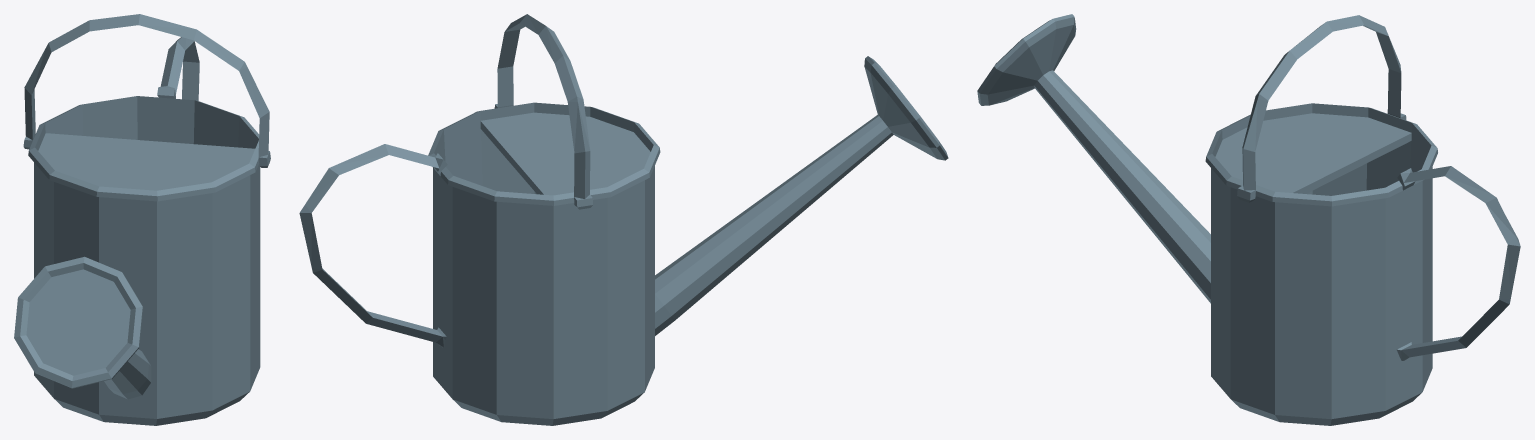
File: water can.glb
The picture shows the model from 3 angles, left to right: view 1: azimuth 30°, elevation 25°; view 2: azimuth 150°, elevation 25°; view 3: azimuth 270°, elevation 25°; orthographic projection. The views are drawn at different scales.
Parts seen in each view (by area): view 1: water can, group1331374005, group2012482809, group221591931, group837911006, group1096370107; view 2: water can, group1331374005, group2012482809, group1096370107, group837911006, group221591931; view 3: water can, group1331374005, group2012482809, group1096370107, group221591931, group837911006.
Boxes of the visible parts, x1,y1,x2,y2 form: water can: (28, 96, 260, 425); group1331374005: (14, 256, 151, 399); group2012482809: (38, 133, 254, 190); group221591931: (138, 14, 270, 167); group837911006: (23, 14, 139, 149); group1096370107: (157, 37, 199, 100); water can: (428, 102, 660, 425); group1331374005: (655, 56, 948, 335); group2012482809: (480, 112, 650, 195); group1096370107: (299, 144, 447, 347); group837911006: (538, 26, 592, 209); group221591931: (494, 14, 545, 108); water can: (1205, 103, 1437, 425); group1331374005: (977, 14, 1210, 303); group2012482809: (1215, 113, 1411, 193); group1096370107: (1397, 166, 1520, 360); group221591931: (1237, 21, 1332, 202); group837911006: (1327, 15, 1406, 120).
Size of the model in its own units: 0.1941 by 0.164 by 0.2243.
